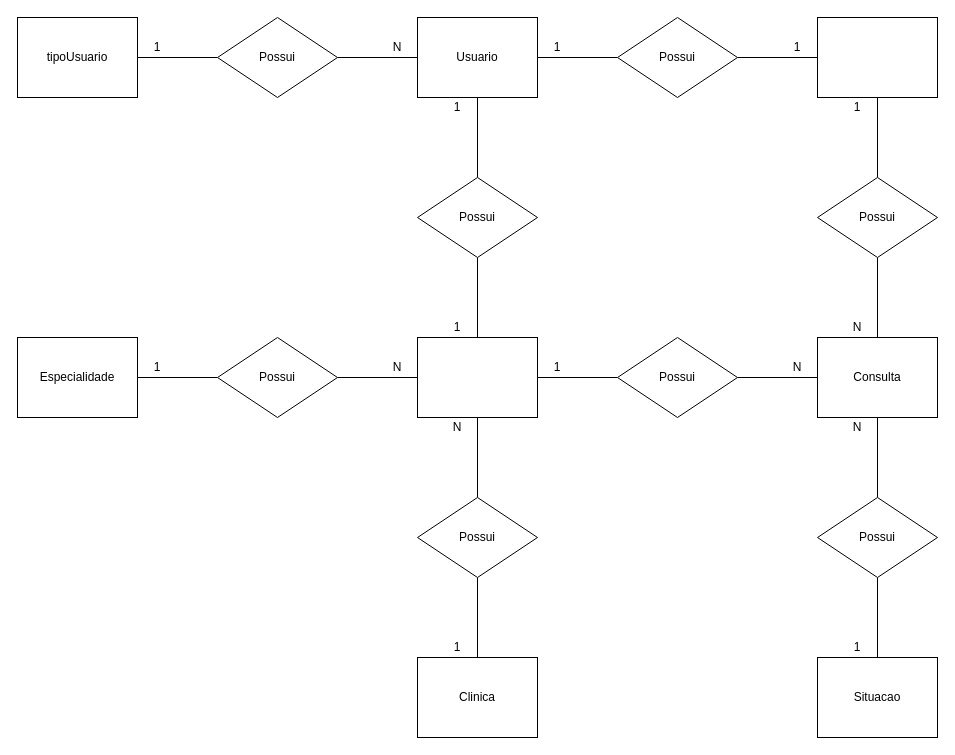
Image size: 955x755. Some labels were removed from this diagram. Here are the shapes that lost their labels. From the top down, the box of each, then its label:
(816, 16, 938, 98): Paciente
(416, 336, 538, 418): Médico
